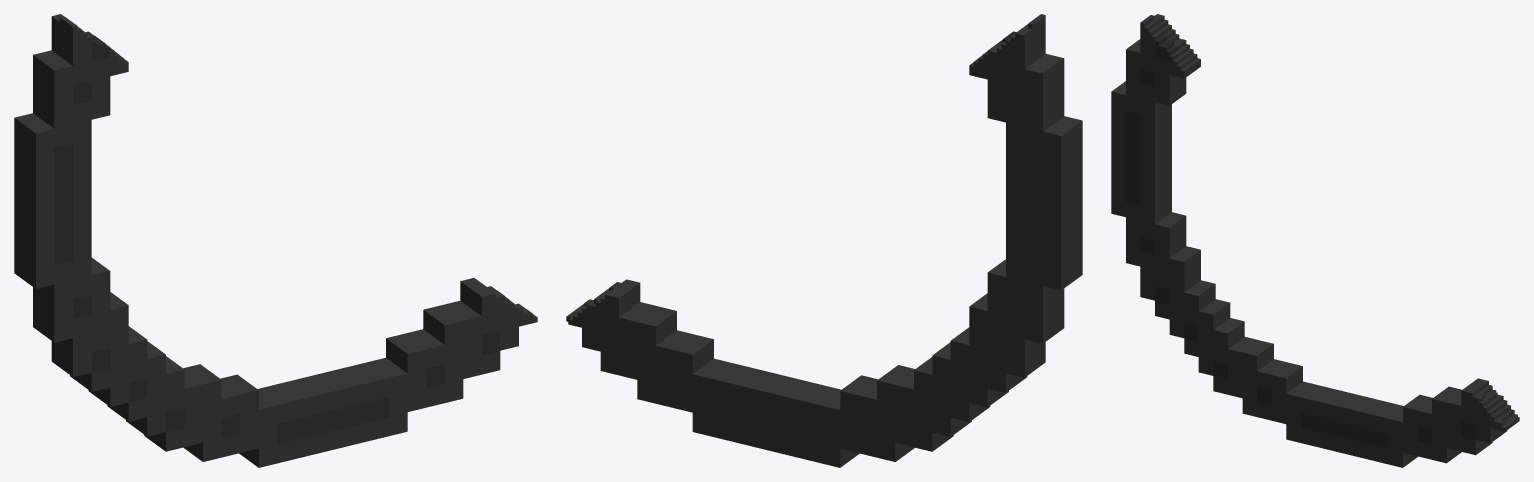
File: portal_broken-1.obj
3 renders of one model, left to right at view 1: azimuth 30°, elevation 25°; view 2: azimuth 150°, elevation 25°; view 3: azimuth 330°, elevation 25°, orthographic. The views are drawn at different scales.
Bounding box in the file's own units: 10.8 × 10 × 0.8.
1 material, 1 textured.
